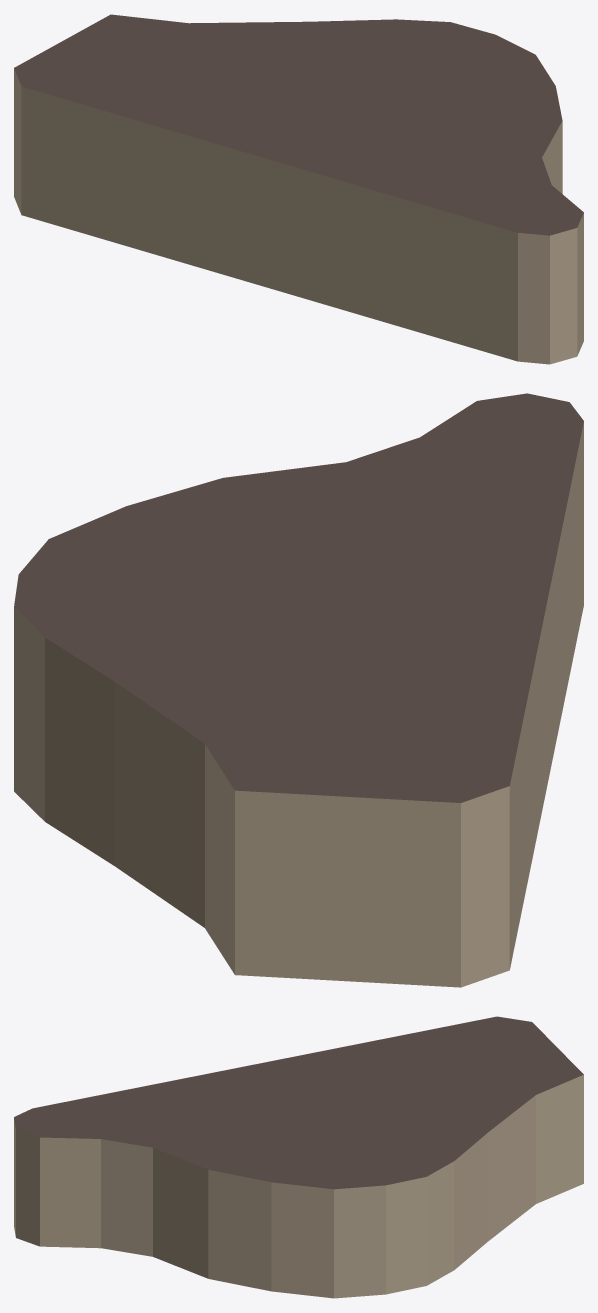
The picture shows the model from 3 angles, top to bottom: view 1: azimuth 30°, elevation 25°; view 2: azimuth 150°, elevation 25°; view 3: azimuth 270°, elevation 25°; orthographic projection. The views are drawn at different scales.
Visible parts, largest first — view 1: HP-w299224147; view 2: HP-w299224147; view 3: HP-w299224147.
Part boxes in pixels (x1,y1,x2,y2): HP-w299224147: (14,14,583,364); HP-w299224147: (14,393,583,987); HP-w299224147: (14,1016,583,1298).
Size of the model in its own units: 30.57 by 9 by 42.6.
